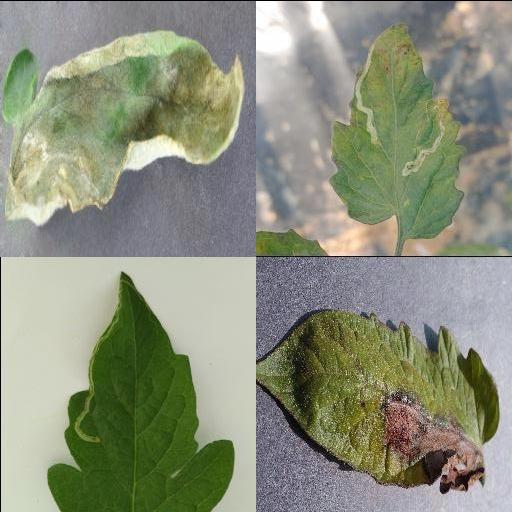Late Blight: (0, 26, 246, 224), (256, 307, 500, 494)
Leaf Miner: (47, 267, 235, 511), (326, 23, 468, 241)
